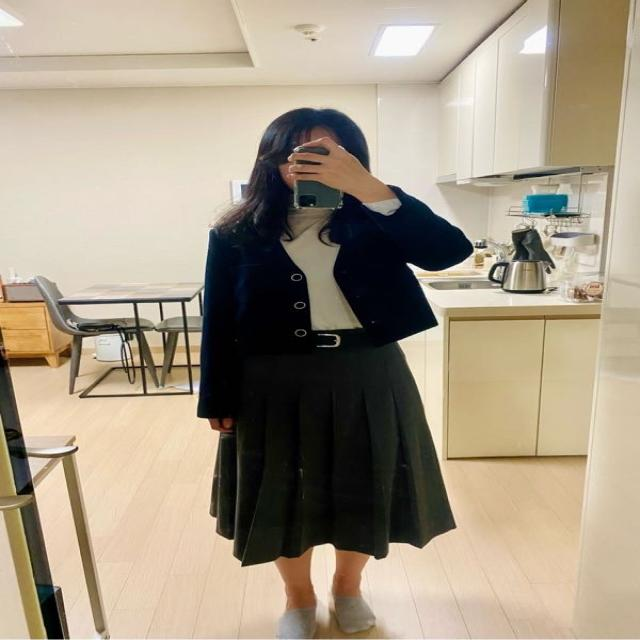blazer: (196, 184, 474, 418)
skirt: (209, 327, 460, 565)
